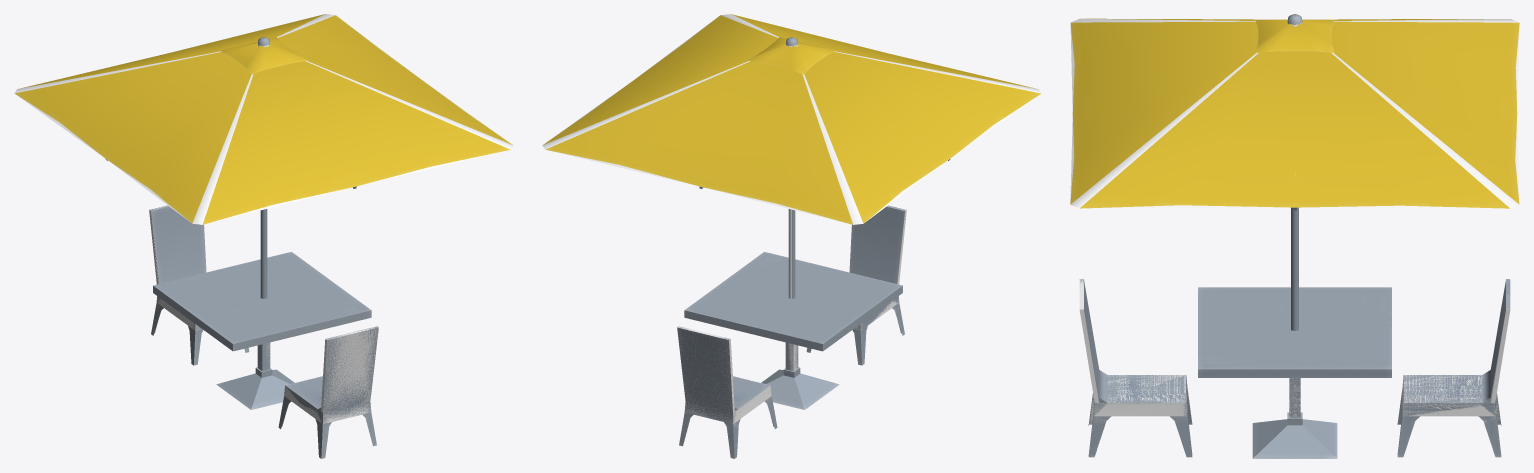
Rendered from objects_un_c01table01.gltf.
The picture shows the model from 3 angles, left to right: view 1: azimuth 30°, elevation 25°; view 2: azimuth 150°, elevation 25°; view 3: azimuth 270°, elevation 25°; orthographic projection. The views are drawn at different scales.
Parts seen in each view (by area): view 1: um_objects_un_c01table01_model_lod0Shape:objects_un_c01table (×2); view 2: um_objects_un_c01table01_model_lod0Shape:objects_un_c01table (×2); view 3: um_objects_un_c01table01_model_lod0Shape:objects_un_c01table (×2).
Part boxes in pixels (left/top/right/bottom): um_objects_un_c01table01_model_lod0Shape:objects_un_c01table (×2): left=14, top=14, right=513, bottom=458; um_objects_un_c01table01_model_lod0Shape:objects_un_c01table (×2): left=542, top=14, right=1041, bottom=458; um_objects_un_c01table01_model_lod0Shape:objects_un_c01table (×2): left=1070, top=14, right=1519, bottom=458.
Size of what is drawn, in the model's own units: 2.73 by 2.86 by 2.73.
Materials: 2 (1 with a texture image).
